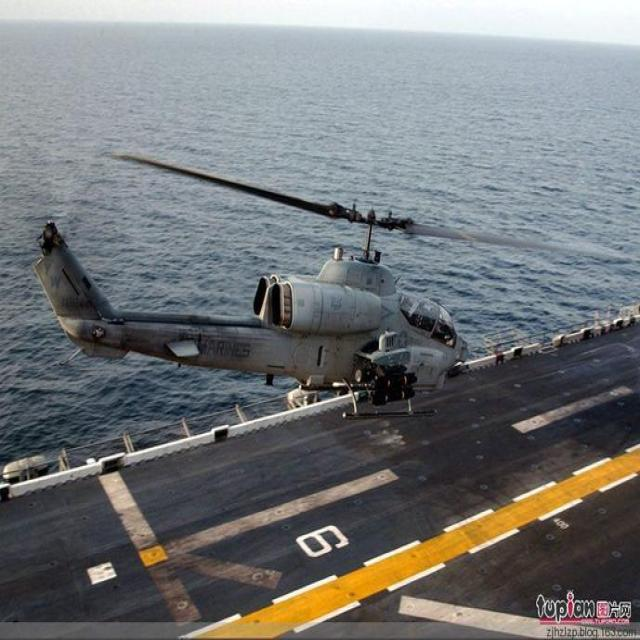MIL_HELO: (28, 146, 637, 460)
